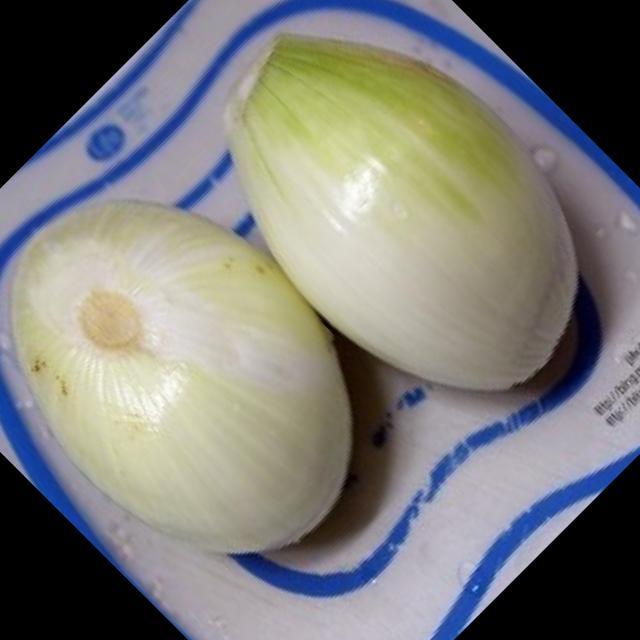Onion: (214, 33, 581, 388), (28, 196, 340, 566)
